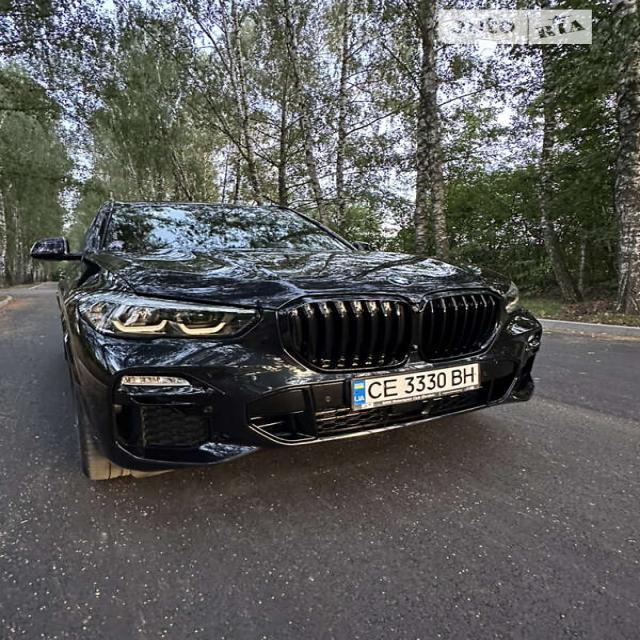plate: (356, 362, 484, 416)
